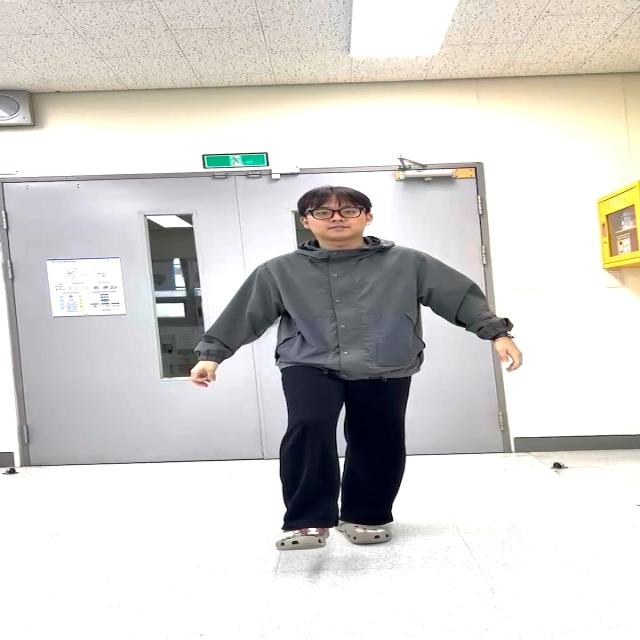leg: (243, 359, 355, 553)
